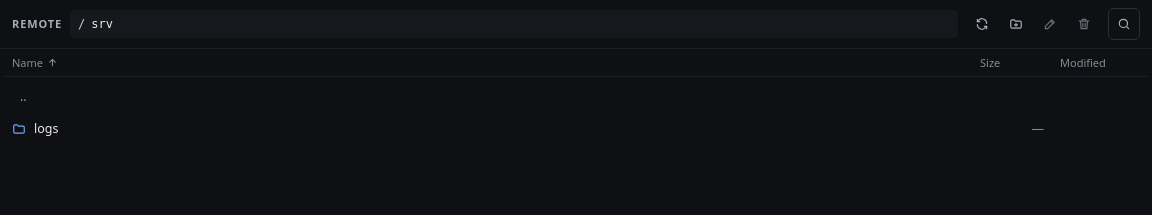
Test case: FilePane search › stops a running search by aborting it
The image size is (1152, 215).
Expected: the text "logs" is shown, [12,120,58,137]
Click the button named "Search files": x=1124, y=24 [1108,8,1140,40]
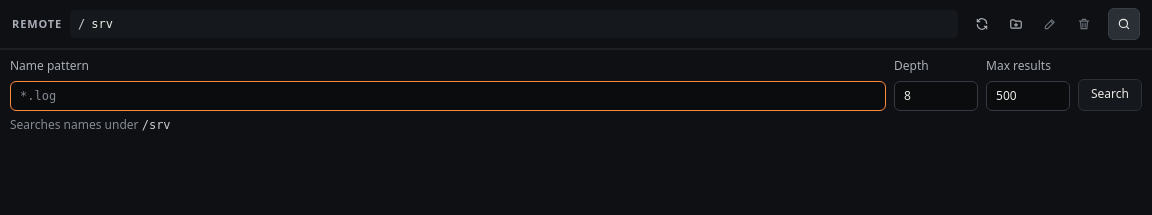
In the field labelled "Name pattern": x=448, y=96 [10,81,886,111], type "a"
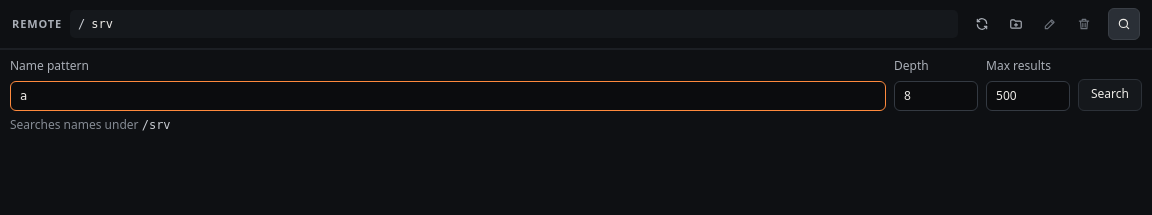
Click the button "Search": x=1110, y=95 [1078,79,1142,111]
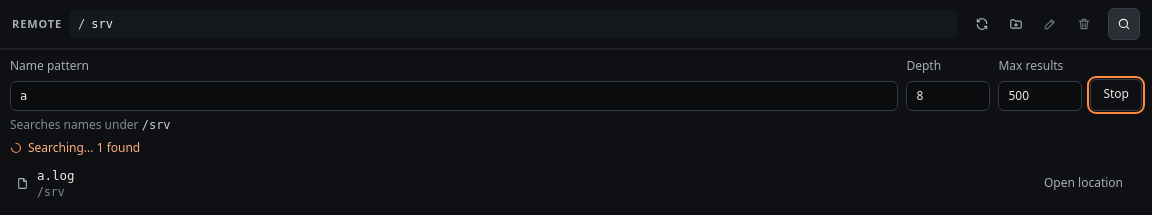
Now the message reads "Searching... 1 found", box [10,139,140,156]
Click the button "Stop": x=1116, y=95 [1090,79,1142,111]
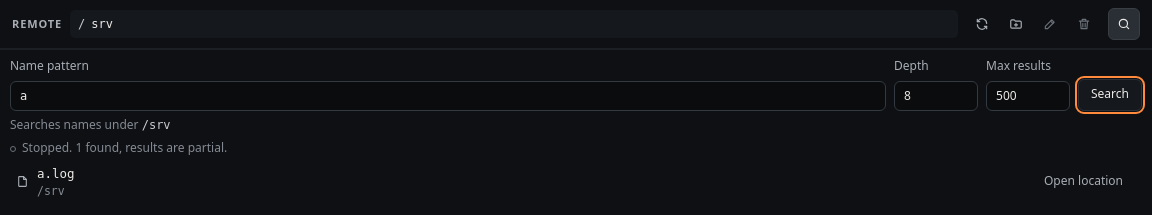
Now the message reads "Stopped. 1 found, results are partial.", box [10,139,227,156]
